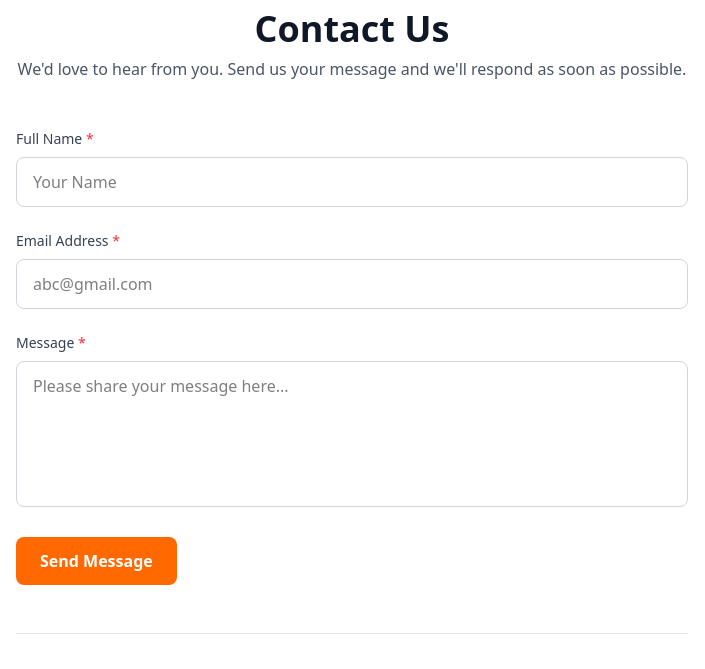
Test: Contact Us Page › Shows validation errors when fields are empty
The width and height of the screenshot is (705, 669).
Click the button "Send Message": (96, 561) [16,537,177,585]
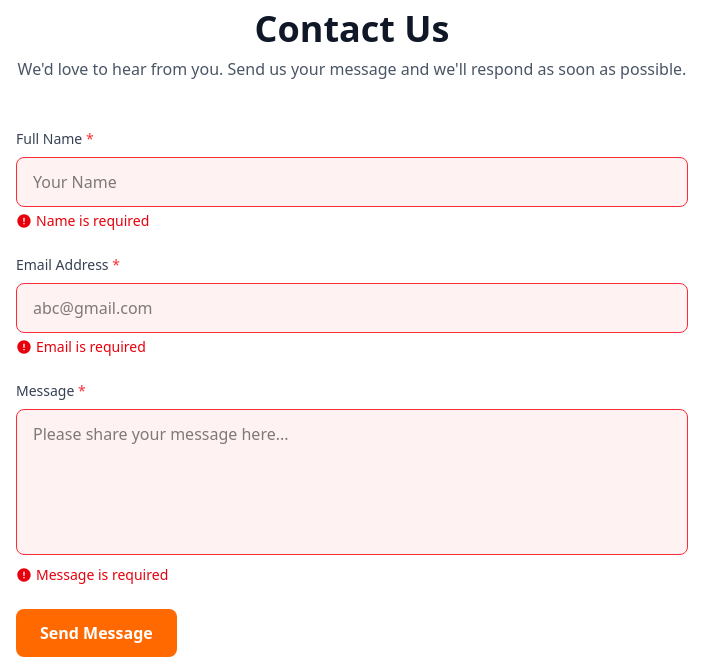
Expected: the text "Name is required" is shown, [16,211,149,230]
Expected: the text "Email is required" is shown, [16,337,146,356]
Expected: the text "Message is required" is shown, [16,565,168,584]
